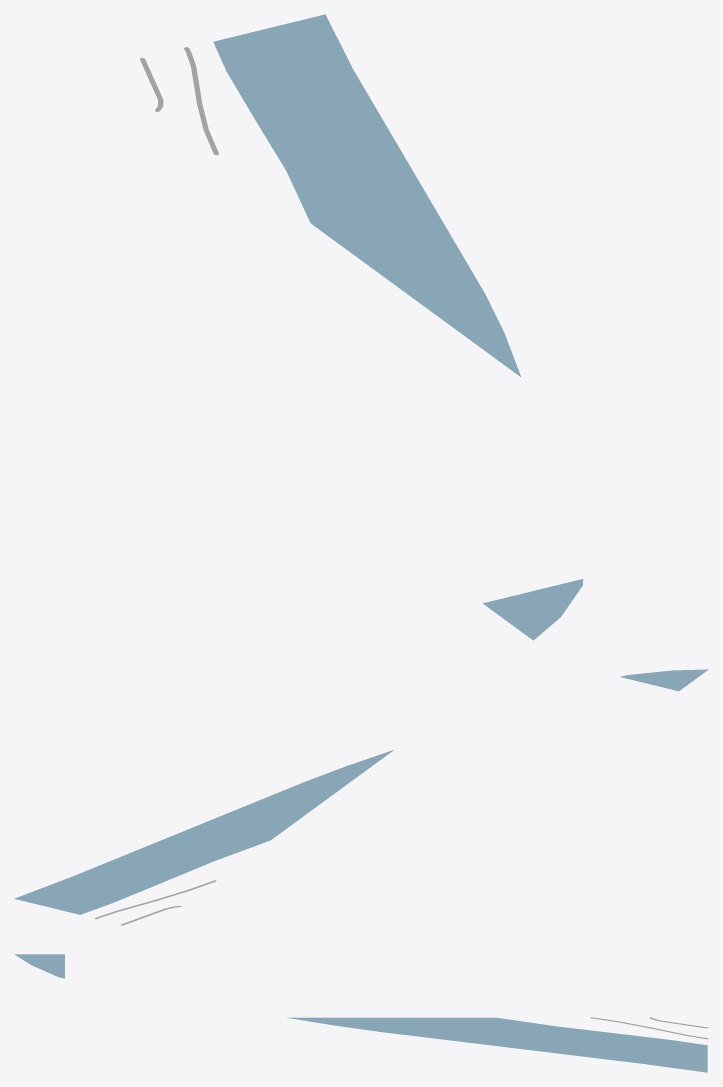
The model's file is 5_-2-known-fine.glb.
3 views of the same model, one above another, from view 1: azimuth 30°, elevation 25°; view 2: azimuth 150°, elevation 25°; view 3: azimuth 270°, elevation 25° (orthographic). The views are drawn at different scales.
Size of the model in its own units: 313 by 0.1 by 775.
